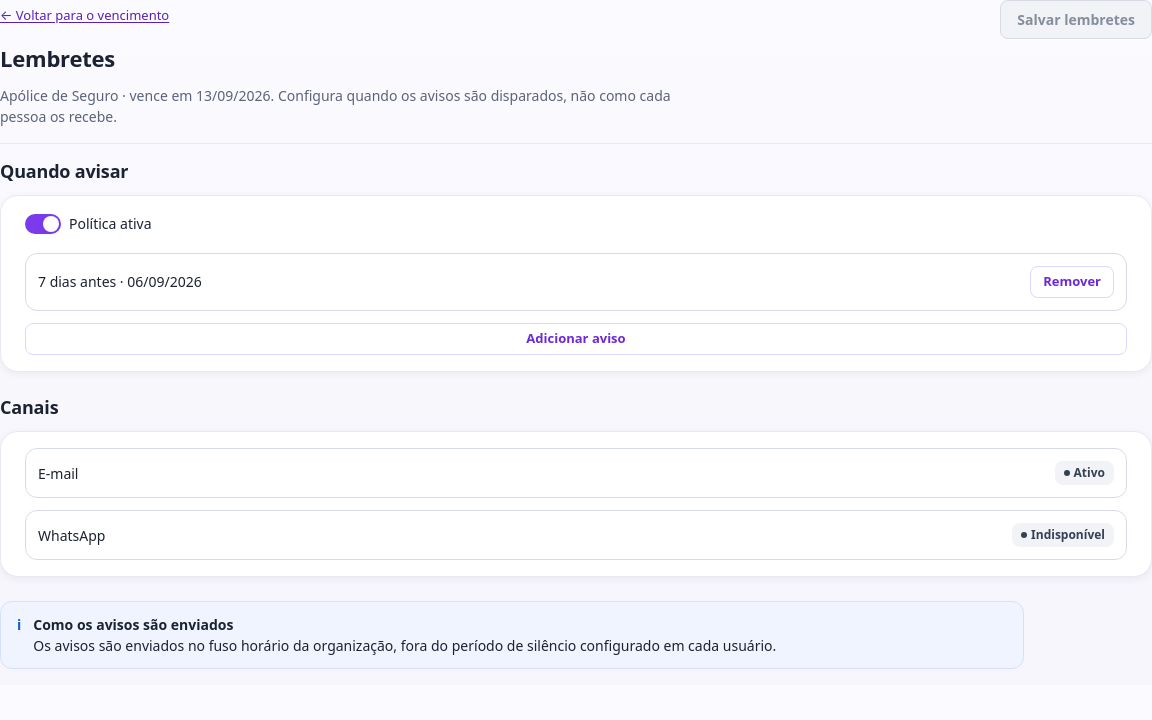
Scenario: ItemReminderPolicy (A06) › an OCC conflict on save (409) shows the conflict notice and re-fetches the current version (Codex review finding: a stale If-Match must not be resent forever)
This screenshot has width=1152, height=720.
Expected: the text "7 dias antes · 06/09/2026" is shown, [38,272,202,292]
Click the switch.
click(88, 224)  # box [25,212,152,236]
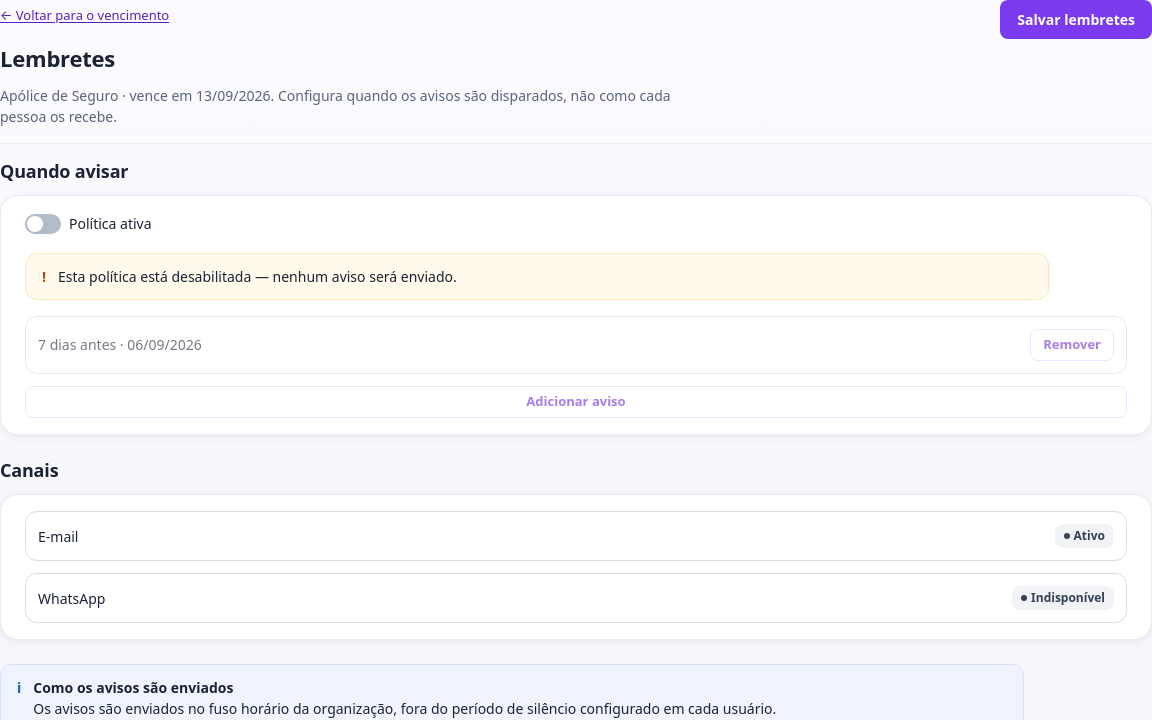
Click the button "Salvar lembretes".
click(1076, 20)  # box [1000,0,1151,39]
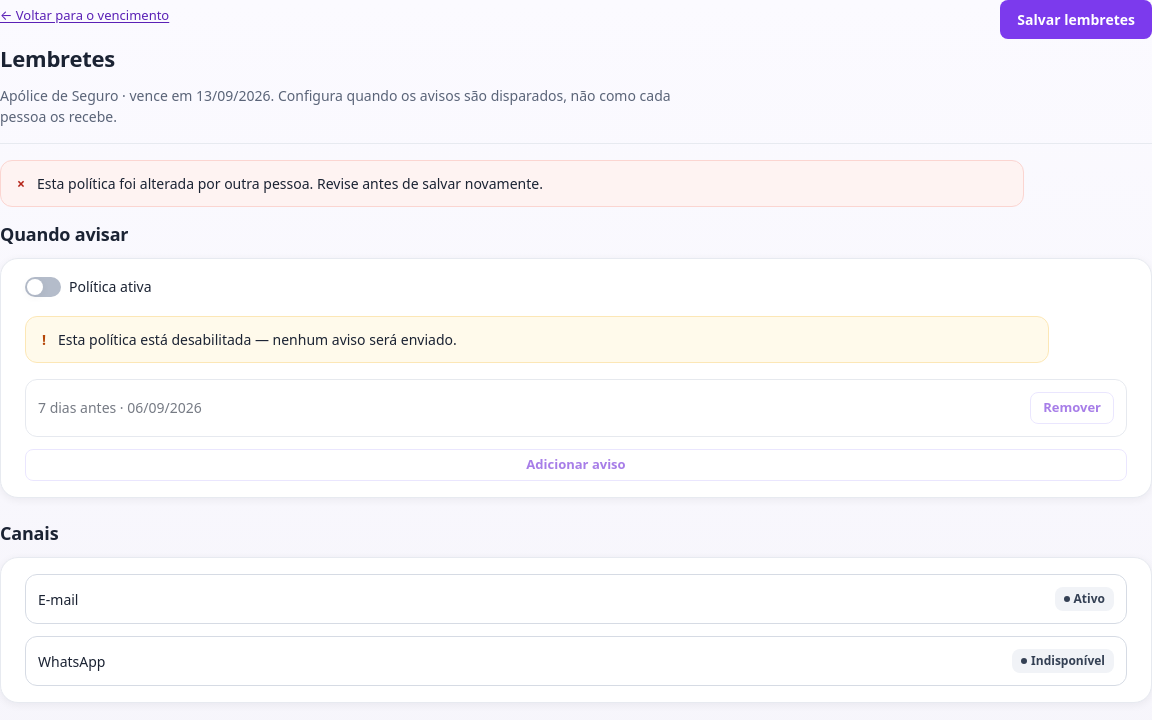
Result: the text "Esta política está desabilitada — nenhum aviso será enviado." is shown at [58,329,457,350]
Result: the text "Esta política foi alterada por outra pessoa. Revise antes de salvar novamente." is shown at [37,173,543,194]
